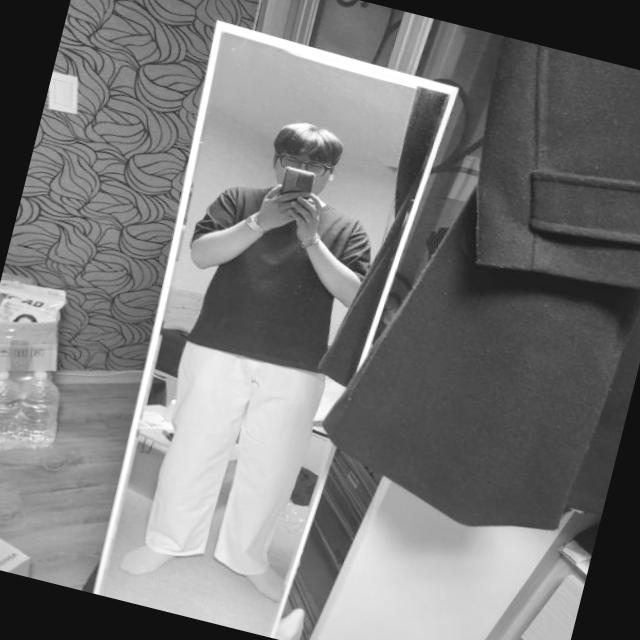cottonpants: (130, 337, 326, 588)
shortsleeve: (168, 170, 379, 380)
